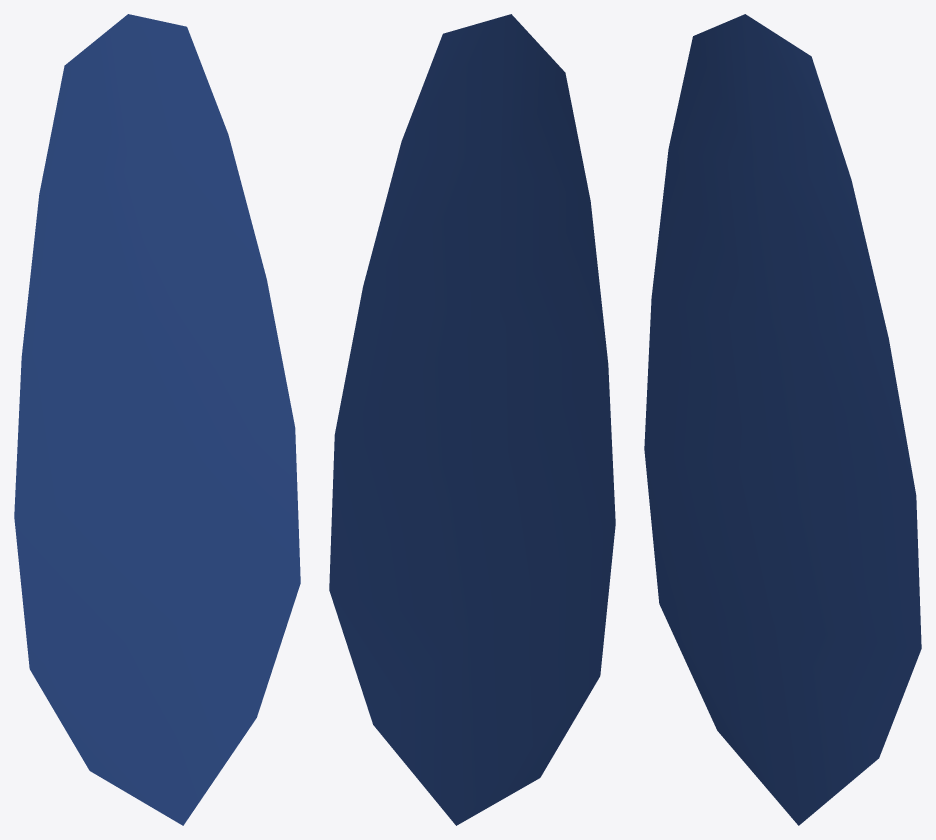
File: lovebird_feather_flight_secondary_006.obj
The picture shows the model from 3 angles, left to right: view 1: azimuth 30°, elevation 25°; view 2: azimuth 150°, elevation 25°; view 3: azimuth 330°, elevation 25°; orthographic projection. The views are drawn at different scales.
Visible parts, largest first — view 1: feather_flight_secondary_006; view 2: feather_flight_secondary_006; view 3: feather_flight_secondary_006.
Part boxes in pixels (<box>): feather_flight_secondary_006: <box>14,14,300,825</box>; feather_flight_secondary_006: <box>329,14,615,825</box>; feather_flight_secondary_006: <box>644,14,921,825</box>.
Size of the model in its own units: 0.00553 by 0.0152 by 0.00016.
